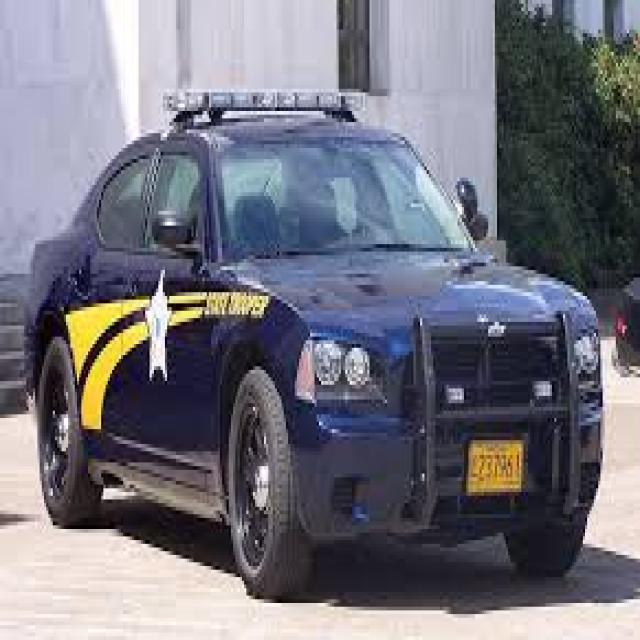cop: (23, 84, 608, 602)
